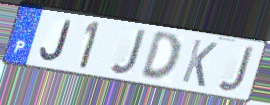1: (78, 20, 102, 72)
D: (138, 32, 182, 84)
J: (216, 46, 256, 94), (109, 29, 149, 77), (38, 18, 74, 63)
K: (179, 37, 219, 89)
